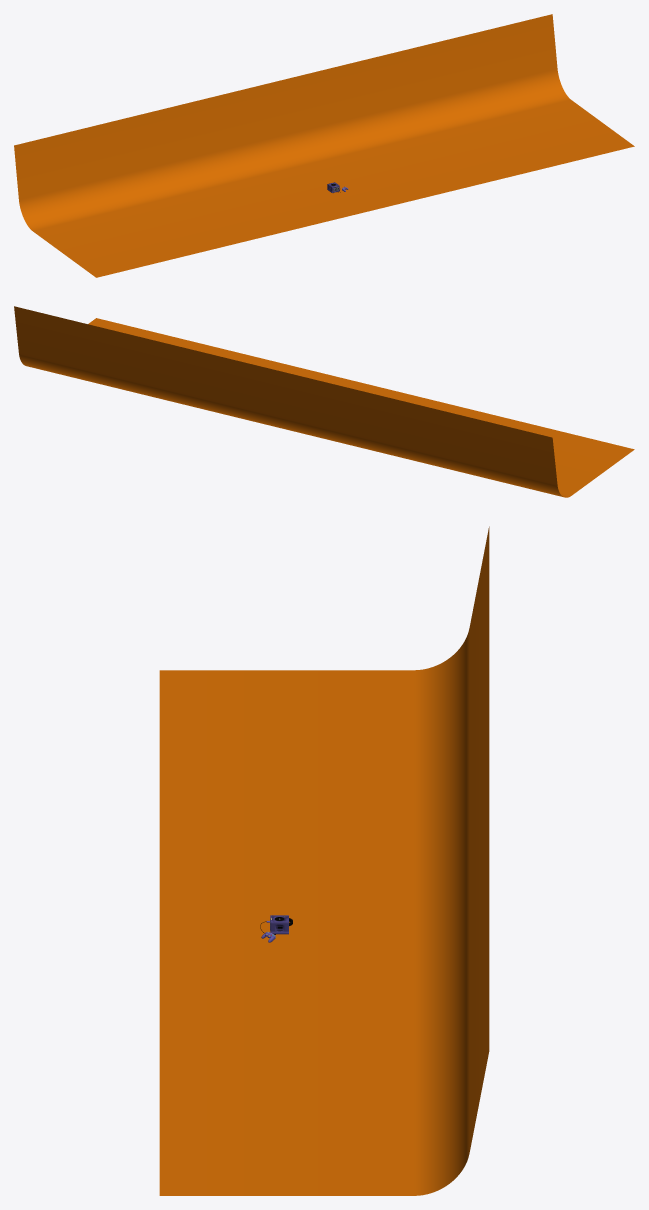
The model's file is low_poly_nintendo_gamecube.glb.
3 renders of one model, top to bottom at view 1: azimuth 30°, elevation 25°; view 2: azimuth 150°, elevation 25°; view 3: azimuth 270°, elevation 25°, orthographic. The views are drawn at different scales.
Visible parts, largest first — view 1: Ground; view 2: Ground; view 3: Ground.
Boxes of the visible parts, x1,y1,x2,y2 form: Ground: (14, 14, 634, 277); Ground: (14, 306, 634, 497); Ground: (159, 526, 489, 1195).
Bounding box in the file's own units: 37.84 × 4.85 × 10.02.
Materials: 3 (2 with a texture image).
